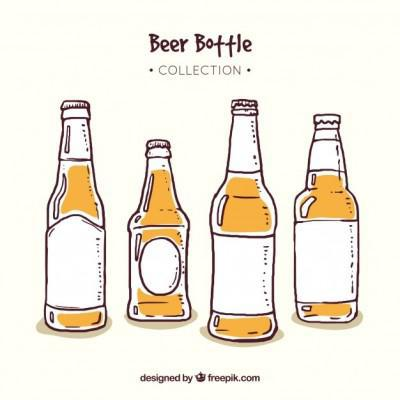beer: (42, 100, 361, 339)
